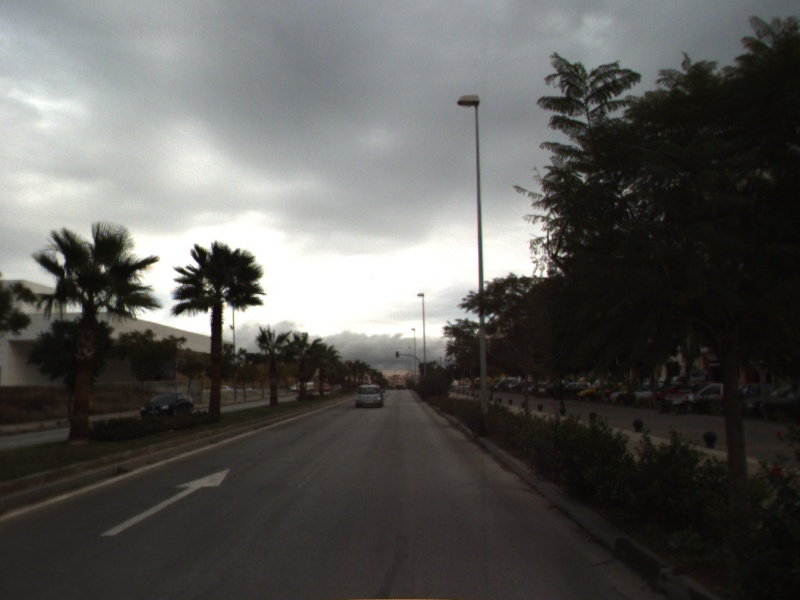STRAIGHT: (99, 466, 232, 538)
